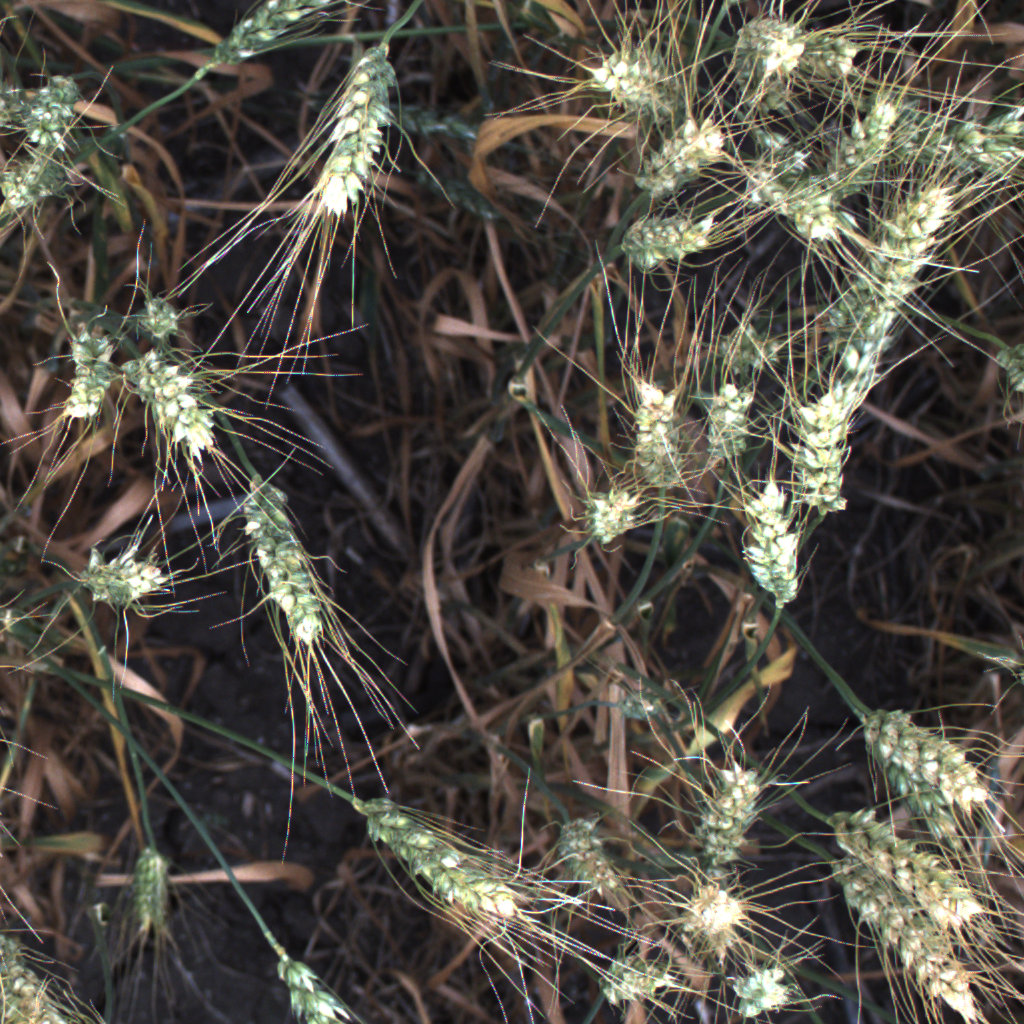wheat_head: (821, 852, 986, 1024), (350, 791, 536, 927), (817, 800, 992, 944), (236, 461, 346, 671), (845, 176, 957, 368), (306, 30, 409, 237), (851, 706, 997, 820), (858, 721, 968, 857), (572, 26, 702, 140), (118, 344, 227, 469), (609, 104, 739, 207), (820, 196, 902, 358), (732, 471, 816, 625), (602, 365, 689, 500), (64, 522, 179, 624), (789, 385, 869, 522), (47, 309, 123, 446), (687, 756, 774, 872), (202, 0, 342, 72), (897, 102, 1024, 177), (550, 807, 634, 910), (839, 83, 913, 191), (674, 873, 763, 961), (0, 929, 79, 1024), (610, 213, 727, 276), (266, 948, 355, 1024), (590, 944, 681, 1017), (566, 475, 647, 556), (729, 11, 816, 81), (118, 840, 178, 939), (785, 169, 862, 246), (719, 961, 813, 1023), (28, 65, 90, 159), (124, 278, 200, 352), (700, 370, 754, 466), (802, 20, 880, 85), (704, 316, 784, 377), (0, 145, 63, 221), (735, 158, 790, 223), (983, 337, 1024, 408), (0, 75, 47, 136)
